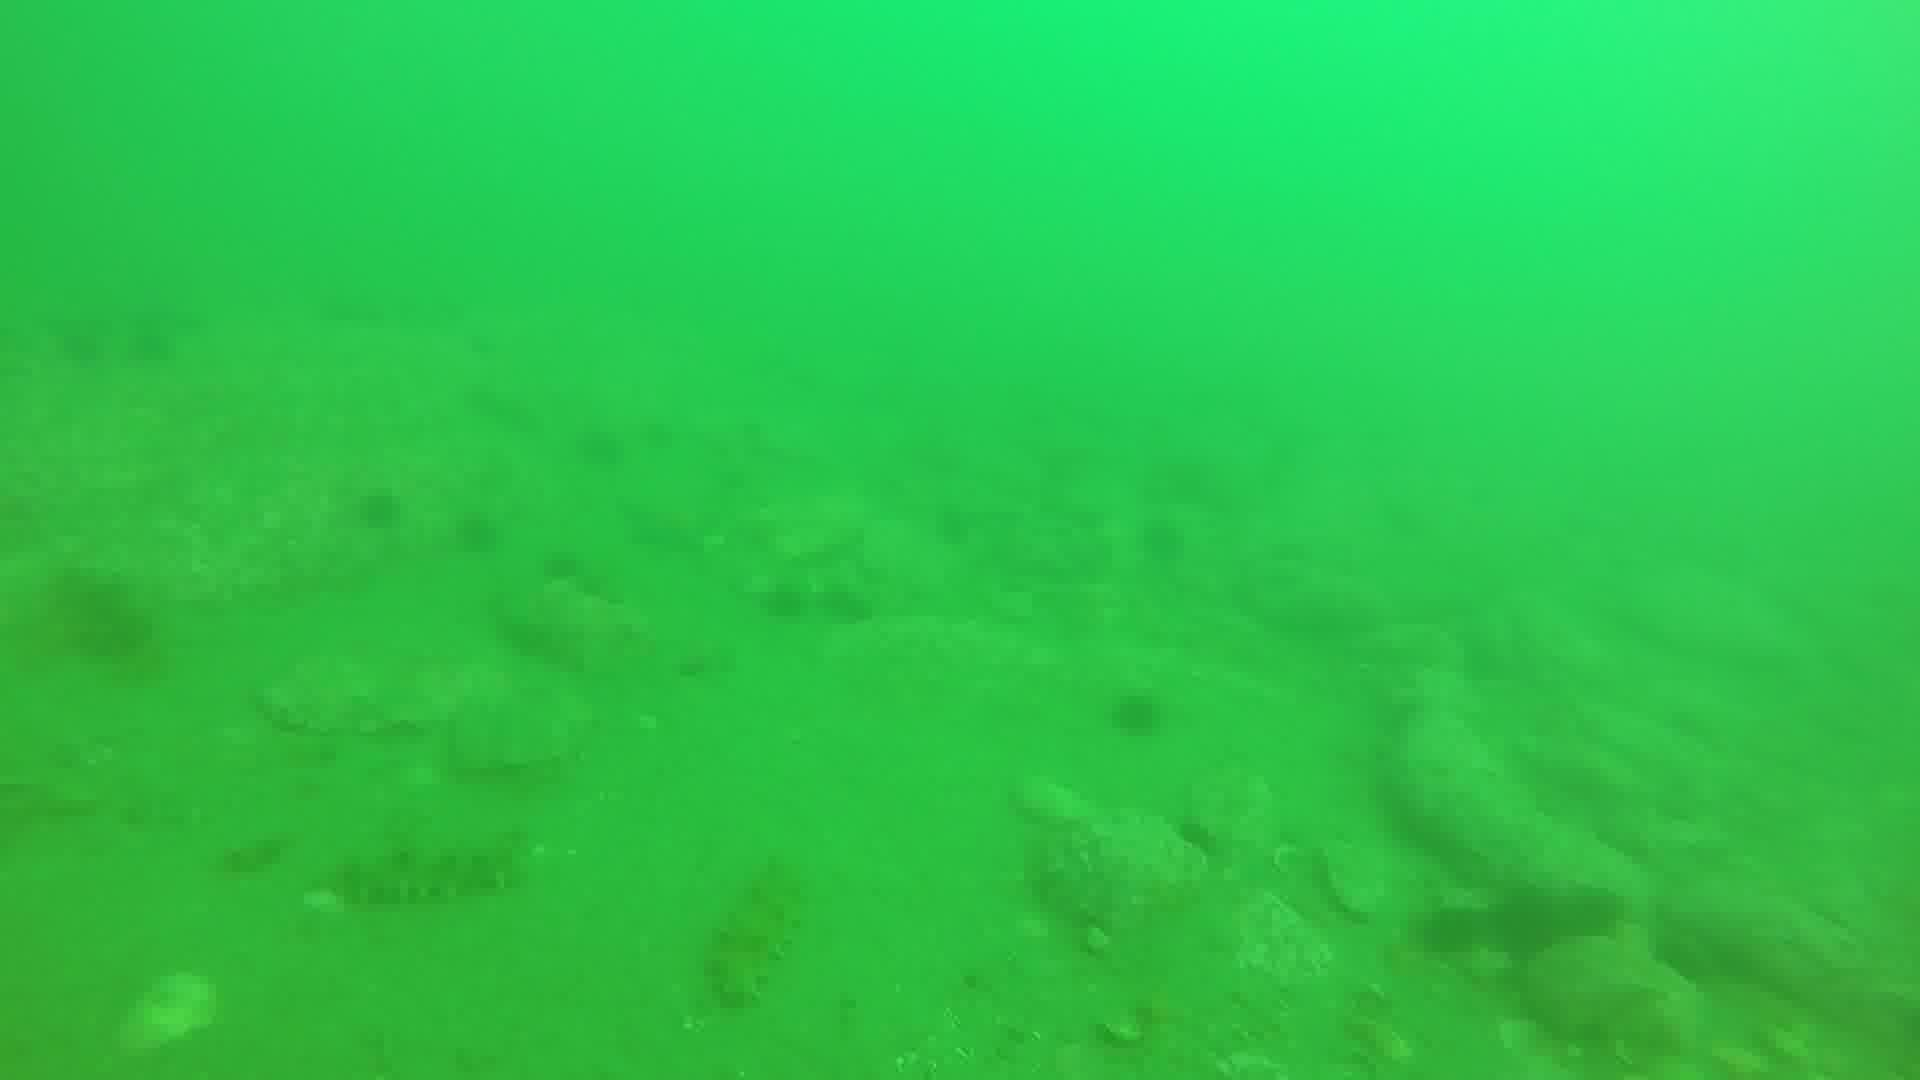echinus: (1118, 688, 1170, 735), (822, 584, 876, 624), (771, 580, 814, 616), (357, 488, 398, 524)
holothurian: (334, 827, 537, 915), (723, 861, 807, 1011), (76, 567, 171, 684)
